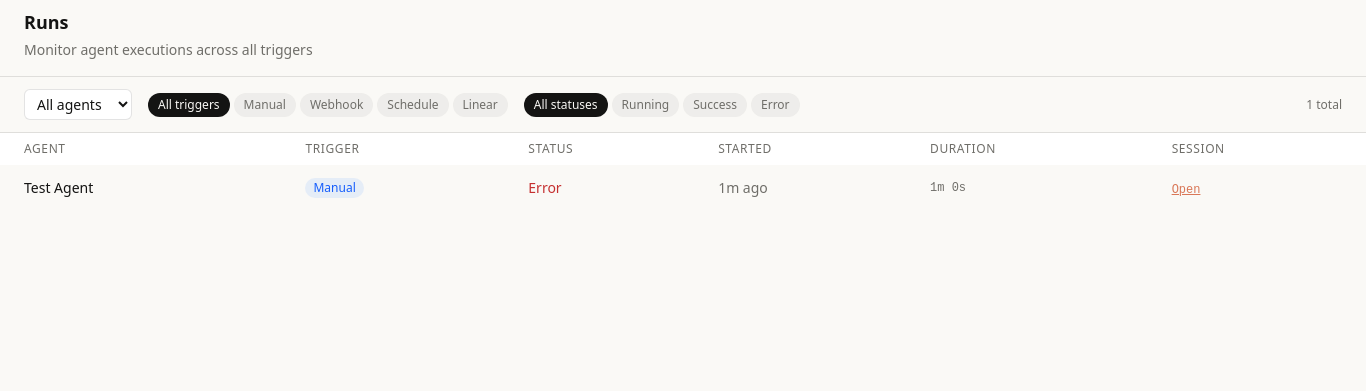
Test: RunsPage › shows error details in the detail panel when execution has an error
This screenshot has width=1366, height=391.
Click the text "Test Agent" at (59, 188), box [24, 178, 93, 198]
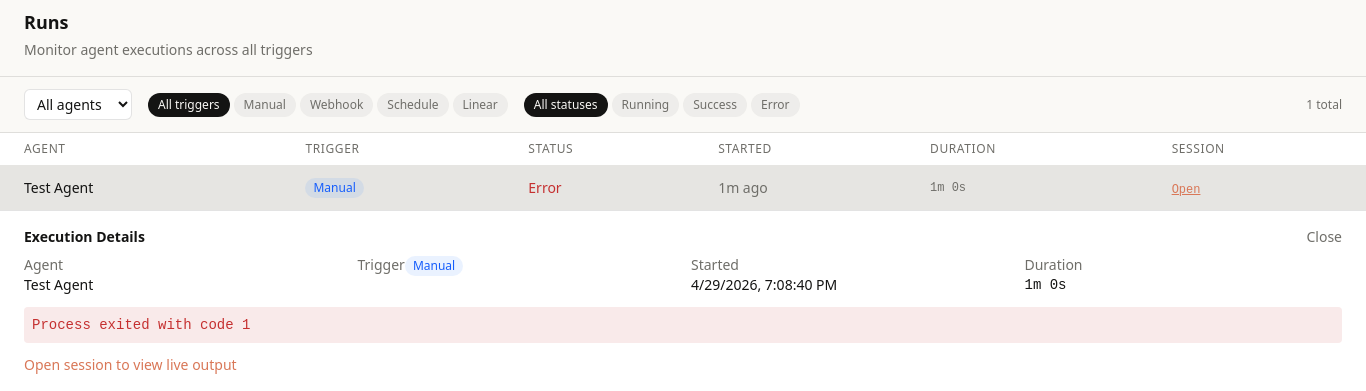
expect the text "Process exited with code 1" is shown: met, box [24, 307, 1342, 343]
